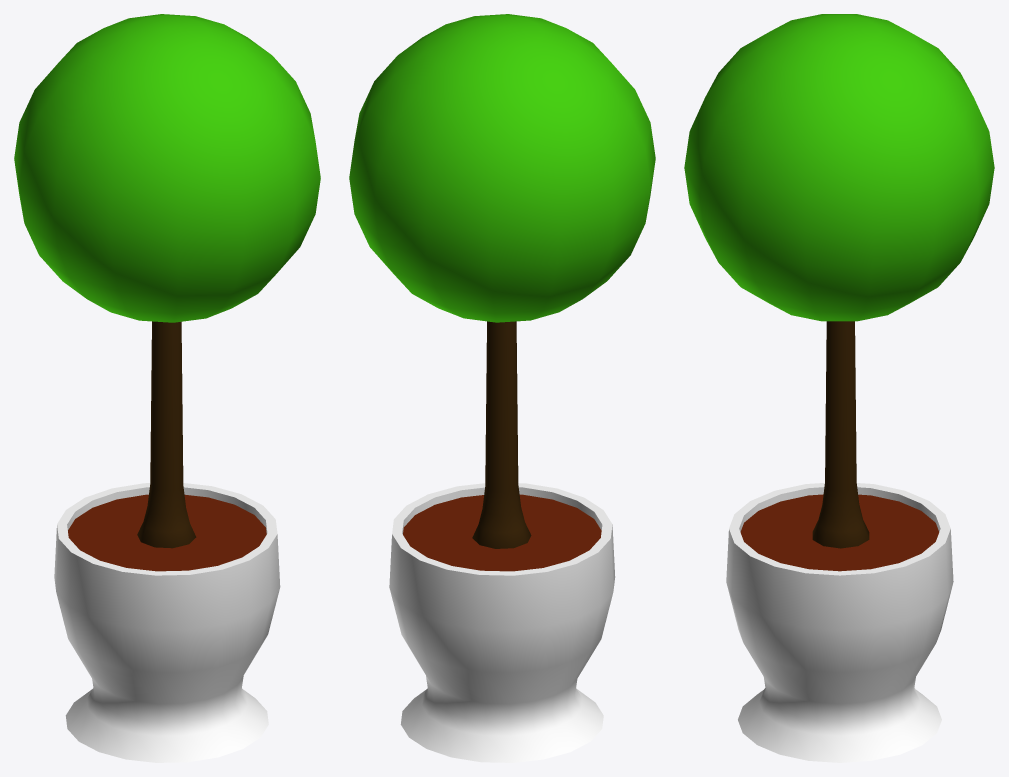
Rendered from tree.fbx.
3 renders of one model, left to right at view 1: azimuth 30°, elevation 25°; view 2: azimuth 150°, elevation 25°; view 3: azimuth 270°, elevation 25°, orthographic.
Visible parts, largest first — view 1: Cylinder.025; view 2: Cylinder.025; view 3: Cylinder.025.
Boxes of the visible parts, x1,y1,x2,y2 form: Cylinder.025: (14, 14, 320, 762); Cylinder.025: (349, 14, 655, 762); Cylinder.025: (684, 14, 994, 762).
Bounding box in the file's own units: 129 × 326 × 133.
